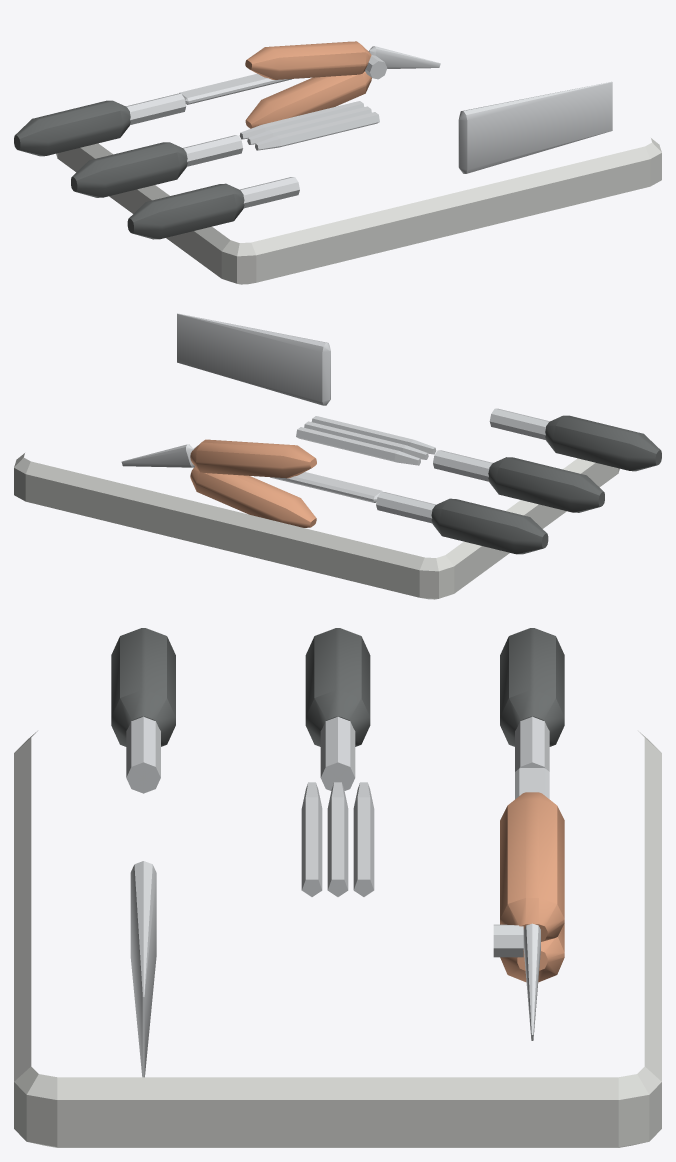
The model's file is garden-centre-and-florist-hand-tool-set-a099a1d1__17750.glb.
3 renders of one model, top to bottom at view 1: azimuth 30°, elevation 25°; view 2: azimuth 150°, elevation 25°; view 3: azimuth 270°, elevation 25°, orthographic. The views are drawn at different scales.
Parts seen in each view (by area): view 1: hand-tool-set; view 2: hand-tool-set; view 3: hand-tool-set.
Part boxes in pixels (x1,y1,x2,y2): hand-tool-set: (14,41,661,284); hand-tool-set: (14,313,661,599); hand-tool-set: (14,628,661,1147).
Bounding box in the file's own units: 0.46 × 0.0795 × 0.3.
